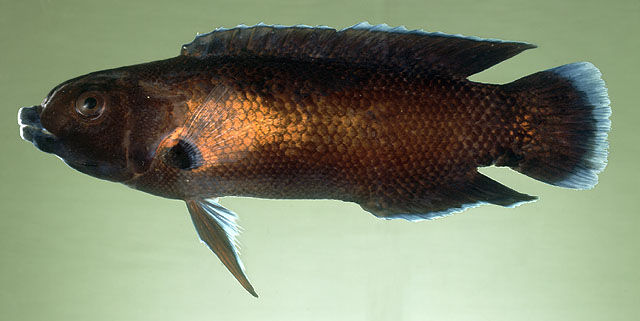fish: (16, 21, 613, 299)
